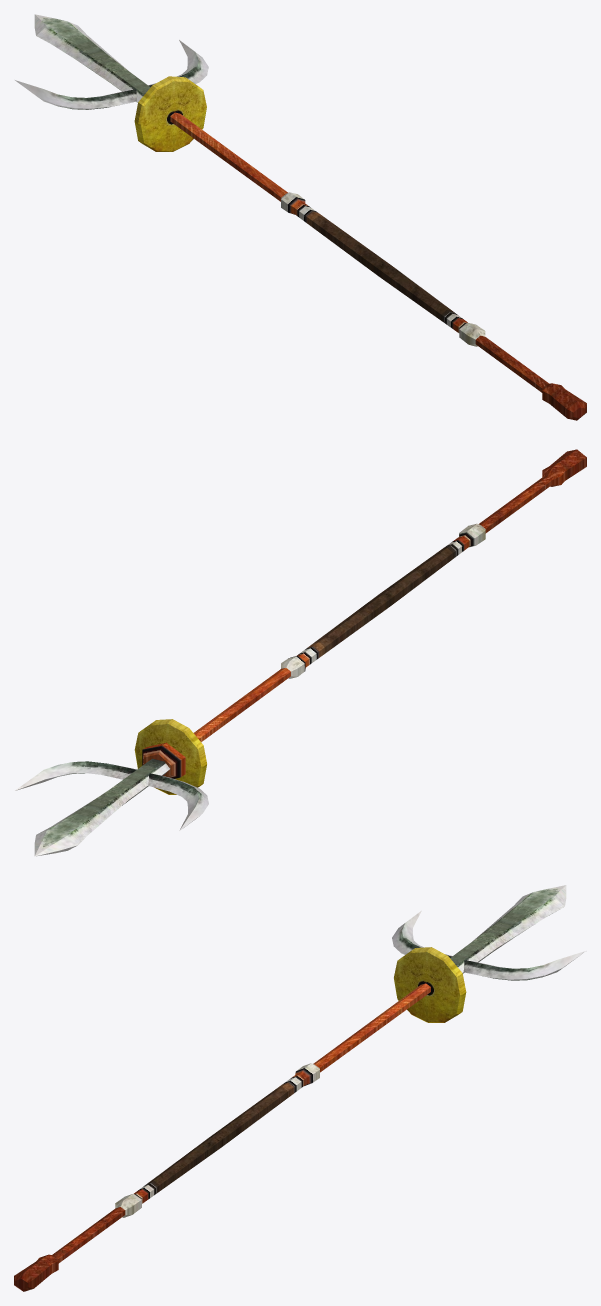
The model's file is weapon__test_nihongou.glb.
The picture shows the model from 3 angles, top to bottom: view 1: azimuth 30°, elevation 25°; view 2: azimuth 150°, elevation 25°; view 3: azimuth 330°, elevation 25°; orthographic projection.
Size of the model in its own units: 0.6016 by 0.2554 by 3.44.
Materials: 1 (1 with a texture image).
